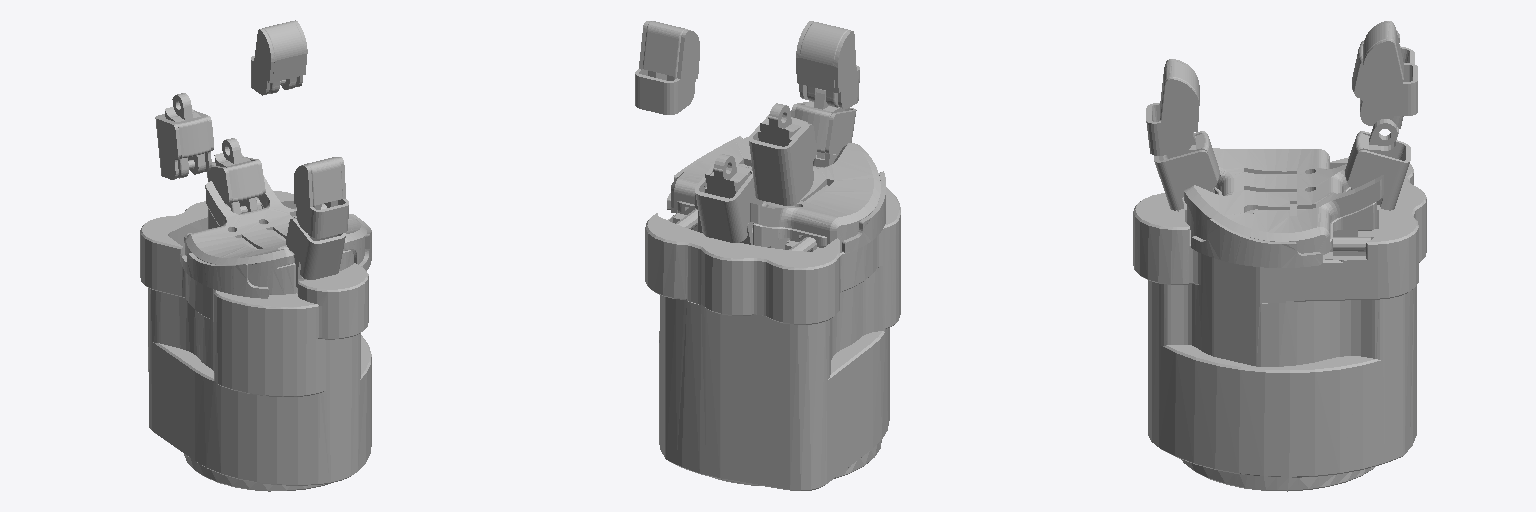
--- Render facts (derived) ---
Views: 3 orthographic renders of the robot side by side, from view 1: azimuth 30°, elevation 25°; view 2: azimuth 150°, elevation 25°; view 3: azimuth 270°, elevation 25°.
Model heri_II with 17 links and 16 joints (11 revolute, 5 fixed), rooted at world, posed every joint at zero.
Links seen in each view (by area): view 1: base_link, LFP1_2, SFP1_2, LFP3_3, LFP2_1, SFB1_1; view 2: base_link, LFP1_2, LFP3_3, SFP1_2, LFP2_1, SFB1_1; view 3: base_link, LFP3_3, SFP1_2, LFP2_1, SFB1_1, LFP1_2.
Boxes of the visible links, x1,y1,x2,y2 form: base_link: [140, 175, 371, 491]; LFP1_2: [155, 93, 213, 179]; SFP1_2: [294, 157, 348, 238]; LFP3_3: [251, 20, 307, 95]; LFP2_1: [207, 138, 265, 213]; SFB1_1: [286, 204, 345, 279]; base_link: [645, 136, 900, 490]; LFP1_2: [749, 103, 816, 205]; LFP3_3: [635, 21, 699, 114]; SFP1_2: [796, 21, 859, 108]; LFP2_1: [695, 154, 763, 242]; SFB1_1: [791, 88, 856, 158]; base_link: [1133, 148, 1426, 491]; LFP3_3: [1363, 21, 1417, 115]; SFP1_2: [1146, 59, 1199, 155]; LFP2_1: [1345, 119, 1410, 210]; SFB1_1: [1154, 131, 1219, 210]; LFP1_2: [1352, 30, 1414, 128].
Bounding box of the posed robot: 0.1112 × 0.1401 × 0.2338 m (x, y, z).
8 mesh visuals loaded from 16 distinct referenced files (8 binary STL); not drawn: 8 (reference not matched to a file when rendering).

The robot description file, URDF, robot "heri_II":
<?xml version="1.0" ?>
<!-- =================================================================================== -->
<!-- |    This document was autogenerated by xacro from heri_II.xacro                  | -->
<!-- |    EDITING THIS FILE BY HAND IS NOT RECOMMENDED                                 | -->
<!-- =================================================================================== -->
<robot name="heri_II" xmlns:xacro="http://ros.org/wiki/xacro">
  <!-- rosee plugin -->
  <gazebo>
    <plugin filename="libHeriIIPlugin.so" name="heri_controller">
      </plugin>
  </gazebo>
  <gazebo reference="">
    <self_collide>1</self_collide>
  </gazebo>
  <!-- /////////////////////////////////   Gazebo   ////////////////////////////////////// -->
  <gazebo reference="base_link">
    <fudgeFactor value="0.5"/>
    <material>Gazebo/Red</material>
  </gazebo>
  <gazebo reference="SFB1">
    <fudgeFactor value="0.5"/>
    <material>Gazebo/White</material>
  </gazebo>
  <gazebo reference="SFB1_1">
    <fudgeFactor value="0.5"/>
    <material>Gazebo/White</material>
  </gazebo>
  <gazebo reference="SFP1_2">
    <fudgeFactor value="0.5"/>
    <material>Gazebo/Blue</material>
  </gazebo>
  <gazebo reference="LFB1">
    <fudgeFactor value="0.5"/>
    <material>Gazebo/White</material>
  </gazebo>
  <gazebo reference="LFP1_1">
    <fudgeFactor value="0.5"/>
    <material>Gazebo/White</material>
  </gazebo>
  <gazebo reference="LFP1_2">
    <fudgeFactor value="0.5"/>
    <material>Gazebo/White</material>
  </gazebo>
  <gazebo reference="LFP1_3">
    <fudgeFactor value="0.5"/>
    <material>Gazebo/Blue</material>
  </gazebo>
  <gazebo reference="LFB2">
    <fudgeFactor value="0.5"/>
    <material>Gazebo/White</material>
  </gazebo>
  <gazebo reference="LFP2_1">
    <fudgeFactor value="0.5"/>
    <material>Gazebo/White</material>
  </gazebo>
  <gazebo reference="LFP2_2">
    <fudgeFactor value="0.5"/>
    <material>Gazebo/White</material>
  </gazebo>
  <gazebo reference="LFP2_3">
    <fudgeFactor value="0.5"/>
    <material>Gazebo/Blue</material>
  </gazebo>
  <material name="Black">
    <color rgba="0 0 0 1"/>
  </material>
  <material name="White">
    <color rgba="1 1 1 1"/>
  </material>
  <material name="Blue">
    <color rgba="0 0 1 1"/>
  </material>
  <material name="Red">
    <color rgba="1 0 0 1"/>
  </material>
  <!-- ///////////////////////////////////////   Short Finger   ////////////////////////////////////////// -->
  <!-- ///////////////////////////////////////   base_link   ////////////////////////////////////////// -->
  <link name="world"/>
  <joint name="world_base" type="fixed">
    <!-- z!= from 1 is necessary because otherwise the hand has tremors. I think this is because it compentetrate
     with the terrain ? -->
    <origin rpy="0 0 0" xyz="0 0 0.015"/>
    <parent link="world"/>
    <child link="base_link"/>
  </joint>
  <link name="base_link">
    <inertial>
      <origin rpy="0 0 0" xyz="0.00030739 0.003138 -0.0012876"/>
      <mass value="0.73864"/>
      <inertia ixx="0.0010292" ixy="-6.0935E-06" ixz="1.0739E-05" iyy="0.0011781" iyz="1.3882E-05" izz="0.00089393"/>
    </inertial>
    <visual>
      <origin rpy="0 0 0" xyz="0 0 0"/>
      <geometry>
        <mesh filename="package://ros_end_effector/configs/meshes/heri_II/base_heri_ii.STL"/>
      </geometry>
      <material name="">
        <color rgba="0.75294 0.75294 0.75294 1"/>
      </material>
    </visual>
    <collision>
      <origin rpy="0 0 0" xyz="0 0 0"/>
      <geometry>
        <mesh filename="package://ros_end_effector/configs/meshes/heri_II/base_heri_ii.STL"/>
      </geometry>
    </collision>
  </link>
  <!-- ///////////////////////////////////////   Base_Link of the short_finger   ////////////////////////////////////////// -->
  <link name="SFB1">
    <inertial>
      <origin rpy="0 0 0" xyz="3.9400487E-03 0 6.4488006E-03"/>
      <mass value="4.1065000E-03"/>
      <inertia ixx="4.3061452E-07" ixy="0" ixz="-1.2027573E-07" iyy="3.9605806E-07" iyz="0" izz="3.9738552E-07"/>
    </inertial>
    <visual>
      <origin rpy="0 0 0" xyz="0 0 0"/>
      <geometry>
        <mesh filename="package://ros_end_effector/configs/meshes/heri_II/SFB1.STL"/>
      </geometry>
      <material name="">
        <color rgba="0.75294 0.75294 0.75294 1"/>
      </material>
    </visual>
    <collision>
      <origin rpy="0 0 0" xyz="0 0 0"/>
      <geometry>
        <mesh filename="package://ros_end_effector/configs/meshes/heri_II/SFB1.STL"/>
      </geometry>
    </collision>
  </link>
  <!-- ///////////////////////////////////////   Joint of BASE and the base_link of the short finger   ////////////////////////////////////////// -->
  <joint name="BASE__SFB1" type="fixed">
    <origin rpy="1.5708 -1.5708 0" xyz="7.6421E-05 -0.031634 0.1213"/>
    <parent link="base_link"/>
    <child link="SFB1"/>
    <axis xyz="0 0 1"/>
    <limit effort="10" lower="-0.1" upper="0.1" velocity="1"/>
    <dynamics damping="0.03" friction="0.03"/>
  </joint>
  <!-- ///////////////////////////////////////   First phalanx of the Short_Finger   ////////////////////////////////////////// -->
  <link name="SFB1_1">
    <inertial>
      <origin rpy="0 0 0" xyz="0.013537693 -0.00011389541 0.00014514898"/>
      <mass value="0.021630428"/>
      <inertia ixx="1.7547572E-06" ixy="1.2425281E-07" ixz="-5.2776703E-08" iyy="7.3422819E-06" iyz="-1.1395559E-09" izz="7.1587820E-06"/>
    </inertial>
    <visual>
      <origin rpy="0 0 0" xyz="0 0 0"/>
      <geometry>
        <mesh filename="package://ros_end_effector/configs/meshes/heri_II/SFB1_1.STL"/>
      </geometry>
      <material name="">
        <color rgba="0.75294 0.75294 0.75294 1"/>
      </material>
    </visual>
    <collision>
      <origin rpy="0 0 0" xyz="0 0 0"/>
      <geometry>
        <mesh filename="package://ros_end_effector/configs/meshes/heri_II/SFB1_1.STL"/>
      </geometry>
    </collision>
  </link>
  <!-- ///////////////////////////////////////   Joint of base_link and the first phalanx of the short finger   ////////////////////////////////////////// -->
  <joint name="SFB1__SFP1_1" type="revolute">
    <origin rpy="1.5708 -0.29671 0" xyz="0.011 0 0.007"/>
    <parent link="SFB1"/>
    <child link="SFB1_1"/>
    <axis xyz="0 0 -1"/>
    <limit effort="10" lower="-0.1" upper="0.9" velocity="1"/>
    <dynamics damping="0.003" friction="0.003"/>
  </joint>
  <!-- ///////////////////////////////////////   Tip phalanx of the short finger   ////////////////////////////////////////// -->
  <link name="SFP1_2">
    <inertial>
      <origin rpy="0 0 0" xyz="0.012398348 -0.00034958691 0.000050212619"/>
      <mass value="0.02226615"/>
      <inertia ixx="1.7400409E-06" ixy="4.4309075E-07" ixz="-1.3771833E-08" iyy="6.8917616E-06" iyz="6.4562527E-09" izz="6.4653229E-06"/>
    </inertial>
    <visual>
      <origin rpy="0 0 0" xyz="0 0 0"/>
      <geometry>
        <mesh filename="package://ros_end_effector/configs/meshes/heri_II/SFP1_2.STL"/>
      </geometry>
      <material name="">
        <color rgba="0.75294 0.75294 0.75294 1"/>
      </material>
    </visual>
    <collision>
      <origin rpy="0 0 0" xyz="0 0 0"/>
      <geometry>
        <mesh filename="package://ros_end_effector/configs/meshes/heri_II/SFP1_2.STL"/>
      </geometry>
    </collision>
  </link>
  <!-- ///////////////////////////////////////   Joint of first and tip phalanxs of the short finger   ////////////////////////////////////////// -->
  <joint name="SFP1_1__SFP1_2" type="revolute">
    <origin rpy="0 0 0" xyz="0.035 0 0"/>
    <parent link="SFB1_1"/>
    <child link="SFP1_2"/>
    <axis xyz="0 0 -1"/>
    <limit effort="10" lower="-0.1" upper="1.2" velocity="1"/>
    <dynamics damping="0.003" friction="0.003"/>
    <mimic joint="SFB1__SFP1_1" multiplier="1.2" offset="0.2"/>
  </joint>
  <!-- ///////////////////////////////////////   Long finger 1   ////////////////////////////////////////// -->
  <!-- ///////////////////////////////////////   Base_Link of the long_finger   ////////////////////////////////////////// -->
  <link name="LFB1">
    <inertial>
      <origin rpy="0 0 0" xyz="0.000045491656 -0.0037522651 0.0064111226"/>
      <mass value="0.0039598861"/>
      <inertia ixx="4.3061452E-07" ixy="0" ixz="-1.2027573E-07" iyy="3.9605806E-07" iyz="0" izz="3.9738552E-07"/>
    </inertial>
    <visual>
      <origin rpy="0 0 0" xyz="0 0 0"/>
      <geometry>
        <mesh filename="package://ros_end_effector/configs/meshes/heri_II/LFB1.STL"/>
      </geometry>
      <material name="">
        <color rgba="0.75294 0.75294 0.75294 1"/>
      </material>
    </visual>
    <collision>
      <origin rpy="0 0 0" xyz="0 0 0"/>
      <geometry>
        <mesh filename="package://ros_end_effector/configs/meshes/heri_II/LFB1.STL"/>
      </geometry>
    </collision>
  </link>
  <!-- ///////////////////////////////////////   Joint of BASE and the base_link of the short finger   ////////////////////////////////////////// -->
  <joint name="BASE__LFB1" type="fixed">
    <origin rpy="1.5708 -1.5708 3.1415927" xyz="-0.031002 0.025903 0.1213"/>
    <parent link="base_link"/>
    <child link="LFB1"/>
    <axis xyz="0 0 1"/>
    <limit effort="10" lower="-0.1" upper="0.1" velocity="1"/>
    <dynamics damping="0.08" friction="0.08"/>     <!-- <dynamics damping="0.03" friction="0.03"/> -->
  </joint>
  <!-- ///////////////////////////////////////   First phalanx of the Long_Finger   ////////////////////////////////////////// -->
  <link name="LFP1_1">
    <inertial>
      <origin rpy="0 0 0" xyz="0.013537693 -0.00011389541 0.00014514898"/>
      <mass value="0.021630428"/>
      <inertia ixx="1.7547572E-06" ixy="1.2425281E-07" ixz="-5.2776703E-08" iyy="7.3422819E-06" iyz="-1.1395559E-09" izz="7.1587820E-06"/>
    </inertial>
    <visual>
      <origin rpy="0 0 0" xyz="0 0 0"/>
      <geometry>
        <mesh filename="package://ros_end_effector/configs/meshes/heri_II/LFP1_1.STL"/>
      </geometry>
      <material name="">
        <color rgba="0.75294 0.75294 0.75294 1"/>
      </material>
    </visual>
    <collision>
      <origin rpy="0 0 0" xyz="0 0 0"/>
      <geometry>
        <mesh filename="package://ros_end_effector/configs/meshes/heri_II/LFP1_1.STL"/>
      </geometry>
    </collision>
  </link>
  <!-- ///////////////////////////////////////   Joint of base_link and the first phalanx of the short finger   ////////////////////////////////////////// -->
  <joint name="LFB1__LFP1_1" type="revolute">
    <origin rpy="1.5708 -0.29671 0" xyz="0.011 0 0.007"/>
    <parent link="LFB1"/>
    <child link="LFP1_1"/>
    <axis xyz="0 0 -1"/>
    <limit effort="10" lower="-0.1" upper="0.9" velocity="1"/>
    <dynamics damping="0.3" friction="0.3"/>
  </joint>
  <!-- ///////////////////////////////////////   Second phalanx of the Long_Finger   ////////////////////////////////////////// -->
  <link name="LFP1_2">
    <inertial>
      <origin rpy="0 0 0" xyz="0.012816858 0.00029615072 0.00012767631"/>
      <mass value="0.022869549"/>
      <inertia ixx="1.9943688E-06" ixy="1.3380251E-07" ixz="-5.3468405E-08" iyy="7.4922799E-06" iyz="-9.2812315E-10" izz="7.3102836E-06"/>
    </inertial>
    <visual>
      <origin rpy="0 0 0" xyz="0 0 0"/>
      <geometry>
        <mesh filename="package://ros_end_effector/configs/meshes/heri_II/LFP1_2.STL"/>
      </geometry>
      <material name="">
        <color rgba="0.75294 0.75294 0.75294 1"/>
      </material>
    </visual>
    <collision>
      <origin rpy="0 0 0" xyz="0 0 0"/>
      <geometry>
        <mesh filename="package://ros_end_effector/configs/meshes/heri_II/LFP1_2.STL"/>
      </geometry>
    </collision>
  </link>
  <!-- ///////////////////////////////////////   Joint of base_link and the first phalanx of the long finger   ////////////////////////////////////////// -->
  <joint name="LFP1_1__LFP1_2" type="revolute">
    <origin rpy="0 0 0" xyz="0.035 0 0"/>
    <parent link="LFP1_1"/>
    <child link="LFP1_2"/>
    <axis xyz="0 0 -1"/>
    <limit effort="10" lower="-0.1" upper="1.1" velocity="1"/> <!-- upper was 0.5-->
    <dynamics damping="0.3" friction="0.3"/>
    <mimic joint="LFB1__LFP1_1" multiplier="1" offset="0.1"/>
  </joint>
  <!-- ///////////////////////////////////////   Tip phalanx of the long finger   ////////////////////////////////////////// -->
  <link name="LFP1_3">
    <inertial>
      <origin rpy="0 0 0" xyz="0.012398348 -0.00034958691 0.000050212619"/>
      <mass value="0.02226615"/>
      <inertia ixx="1.7400409E-06" ixy="4.4309075E-07" ixz="-1.3771833E-08" iyy="6.8917616E-06" iyz="6.4562527E-09" izz="6.4653229E-06"/>
    </inertial>
    <visual>
      <origin rpy="0 0 0" xyz="0 0 0"/>
      <geometry>
        <mesh filename="package://ros_end_effector/configs/meshes/heri_II/LFP1_3.STL"/>
      </geometry>
      <material name="">
        <color rgba="0.75294 0.75294 0.75294 1"/>
      </material>
    </visual>
    <collision>
      <origin rpy="0 0 0" xyz="0 0 0"/>
      <geometry>
        <mesh filename="package://ros_end_effector/configs/meshes/heri_II/LFP1_3.STL"/>
      </geometry>
    </collision>
  </link>
  <!-- ///////////////////////////////////////   Joint of second and tip phalanxs of the long finger   ////////////////////////////////////////// -->
  <joint name="LFP1_2__LFP1_3" type="revolute">
    <origin rpy="0 0 0" xyz="0.035 0 0"/>
    <parent link="LFP1_2"/>
    <child link="LFP1_3"/>
    <axis xyz="0 0 -1"/>
    <limit effort="10" lower="-0.1" upper="1.1" velocity="1"/> <!-- upper was 0.5-->
    <dynamics damping="0.3" friction="0.3"/>
    <mimic joint="LFB1__LFP1_1" multiplier="0.5" offset="0.2"/>
  </joint>

  <!-- ///////////////////////////////////////   Long finger 2   ////////////////////////////////////////// -->
  <!-- ///////////////////////////////////////   Base_Link of the long_finger   ////////////////////////////////////////// -->
  <link name="LFB2">
    <inertial>
      <origin rpy="0 0 0" xyz="0.000045491656 -0.0037522651 0.0064111226"/>
      <mass value="0.0039598861"/>
      <inertia ixx="4.3061452E-07" ixy="0" ixz="-1.2027573E-07" iyy="3.9605806E-07" iyz="0" izz="3.9738552E-07"/>
    </inertial>
    <visual>
      <origin rpy="0 0 0" xyz="0 0 0"/>
      <geometry>
        <mesh filename="package://ros_end_effector/configs/meshes/heri_II/LFB2.STL"/>
      </geometry>
      <material name="">
        <color rgba="0.75294 0.75294 0.75294 1"/>
      </material>
    </visual>
    <collision>
      <origin rpy="0 0 0" xyz="0 0 0"/>
      <geometry>
        <mesh filename="package://ros_end_effector/configs/meshes/heri_II/LFB2.STL"/>
      </geometry>
    </collision>
  </link>
  <!-- ///////////////////////////////////////   Joint of BASE and the base_link of the short finger   ////////////////////////////////////////// -->
  <joint name="BASE__LFB2" type="fixed">
    <origin rpy="1.5708 -1.5708 3.1415927" xyz="0 0.031903 0.1213"/>
    <parent link="base_link"/>
    <child link="LFB2"/>
    <axis xyz="0 0 1"/>
    <limit effort="10" lower="-0.1" upper="0.1" velocity="1"/>
    <dynamics damping="0.03" friction="0.03"/>
  </joint>
  <!-- ///////////////////////////////////////   First phalanx of the Long_Finger   ////////////////////////////////////////// -->
  <link name="LFP2_1">
    <inertial>
      <origin rpy="0 0 0" xyz="0.013537693 -0.00011389541 0.00014514898"/>
      <mass value="0.021630428"/>
      <inertia ixx="1.7547572E-06" ixy="1.2425281E-07" ixz="-5.2776703E-08" iyy="7.3422819E-06" iyz="-1.1395559E-09" izz="7.1587820E-06"/>
    </inertial>
    <visual>
      <origin rpy="0 0 0" xyz="0 0 0"/>
      <geometry>
        <mesh filename="package://ros_end_effector/configs/meshes/heri_II/LFP2_1.STL"/>
      </geometry>
      <material name="">
        <color rgba="0.75294 0.75294 0.75294 1"/>
      </material>
    </visual>
    <collision>
      <origin rpy="0 0 0" xyz="0 0 0"/>
      <geometry>
        <mesh filename="package://ros_end_effector/configs/meshes/heri_II/LFP2_1.STL"/>
      </geometry>
    </collision>
  </link>
  <!-- ///////////////////////////////////////   Joint of base_link and the first phalanx of the short finger   ////////////////////////////////////////// -->
  <joint name="LFB2__LFP2_1" type="revolute">
    <origin rpy="1.5708 -0.29671 0" xyz="0.011 0 0.007"/>
    <parent link="LFB2"/>
    <child link="LFP2_1"/>
    <axis xyz="0 0 -1"/>
    <limit effort="10" lower="-0.1" upper="0.73" velocity="1"/>
    <dynamics damping="0.003" friction="0.003"/>
  </joint>
  <!-- ///////////////////////////////////////   Second phalanx of the Long_Finger   ////////////////////////////////////////// -->
  <link name="LFP2_2">
    <inertial>
      <origin rpy="0 0 0" xyz="0.012816858 0.00029615072 0.00012767631"/>
      <mass value="0.022869549"/>
      <inertia ixx="1.9943688E-06" ixy="1.3380251E-07" ixz="-5.3468405E-08" iyy="7.4922799E-06" iyz="-9.2812315E-10" izz="7.3102836E-06"/>
    </inertial>
    <visual>
      <origin rpy="0 0 0" xyz="0 0 0"/>
      <geometry>
        <mesh filename="package://ros_end_effector/configs/meshes/heri_II/LFP2_2.STL"/>
      </geometry>
      <material name="">
        <color rgba="0.75294 0.75294 0.75294 1"/>
      </material>
    </visual>
    <collision>
      <origin rpy="0 0 0" xyz="0 0 0"/>
      <geometry>
        <mesh filename="package://ros_end_effector/configs/meshes/heri_II/LFP2_2.STL"/>
      </geometry>
    </collision>
  </link>
  <!-- ///////////////////////////////////////   Joint of base_link and the first phalanx of the short finger   ////////////////////////////////////////// -->
  <joint name="LFP2_1__LFP2_2" type="revolute">
    <origin rpy="0 0 0" xyz="0.035 0 0"/>
    <parent link="LFP2_1"/>
    <child link="LFP2_2"/>
    <axis xyz="0 0 -1"/>
    <limit effort="10" lower="-0.1" upper="0.5" velocity="1"/>
    <dynamics damping="0.003" friction="0.003"/>
    <mimic joint="LFB2__LFP2_1" multiplier="1" offset="0.1"/>
  </joint>

  <!-- ///////////////////////////////////////   Tip phalanx of the long finger   ////////////////////////////////////////// -->
  <link name="LFP2_3">
    <inertial>
      <origin rpy="0 0 0" xyz="0.012398348 -0.00034958691 0.000050212619"/>
      <mass value="0.02226615"/>
      <inertia ixx="1.7400409E-06" ixy="4.4309075E-07" ixz="-1.3771833E-08" iyy="6.8917616E-06" iyz="6.4562527E-09" izz="6.4653229E-06"/>
    </inertial>
    <visual>
      <origin rpy="0 0 0" xyz="0 0 0"/>
      <geometry>
        <mesh filename="package://ros_end_effector/configs/meshes/heri_II/LFP2_3.STL"/>
      </geometry>
      <material name="">
        <color rgba="0.75294 0.75294 0.75294 1"/>
      </material>
    </visual>
    <collision>
      <origin rpy="0 0 0" xyz="0 0 0"/>
      <geometry>
        <mesh filename="package://ros_end_effector/configs/meshes/heri_II/LFP2_3.STL"/>
      </geometry>
    </collision>
  </link>
  <!-- ///////////////////////////////////////   Joint of second and tip phalanxs of the long finger   ////////////////////////////////////////// -->
  <joint name="LFP2_2__LFP2_3" type="revolute">
    <origin rpy="0 0 0" xyz="0.035 0 0"/>
    <parent link="LFP2_2"/>
    <child link="LFP2_3"/>
    <axis xyz="0 0 -1"/>
    <limit effort="10" lower="-0.1" upper="0.5" velocity="1"/>
    <dynamics damping="0.06" friction="0.05"/>
    <mimic joint="LFB2__LFP2_1" multiplier="0.5" offset="0.2"/>
  </joint>

  <!-- ///////////////////////////////////////   Long finger 3   ////////////////////////////////////////// -->
  <!-- ///////////////////////////////////////   Base_Link of the long_finger   ////////////////////////////////////////// -->
  <link name="LFB3">
    <inertial>
      <origin rpy="0 0 0" xyz="0.000045491656 -0.0037522651 0.0064111226"/>
      <mass value="0.0039598861"/>
      <inertia ixx="4.3061452E-07" ixy="0" ixz="-1.2027573E-07" iyy="3.9605806E-07" iyz="0" izz="3.9738552E-07"/>
    </inertial>
    <visual>
      <origin rpy="0 0 0" xyz="0 0 0"/>
      <geometry>
        <mesh filename="package://ros_end_effector/configs/meshes/heri_II/LFB3.STL"/>
      </geometry>
      <material name="">
        <color rgba="0.75294 0.75294 0.75294 1"/>
      </material>
    </visual>
    <collision>
      <origin rpy="0 0 0" xyz="0 0 0"/>
      <geometry>
        <mesh filename="package://ros_end_effector/configs/meshes/heri_II/LFB3.STL"/>
      </geometry>
    </collision>
  </link>
  <!-- ///////////////////////////////////////   Joint of BASE and the base_link of the short finger   ////////////////////////////////////////// -->
  <joint name="BASE__LFB3" type="fixed">
    <origin rpy="1.5708 -1.5708 3.1415927" xyz="0.030998 0.025903 0.1213"/>
    <parent link="base_link"/>
    <child link="LFB3"/>
    <axis xyz="0 0 1"/>
    <limit effort="10" lower="-0.1" upper="0.1" velocity="1"/>
    <dynamics damping="0.03" friction="0.03"/>
  </joint>
  <!-- ///////////////////////////////////////   First phalanx of the Long_Finger   ////////////////////////////////////////// -->
  <link name="LFP3_1">
    <inertial>
      <origin rpy="0 0 0" xyz="0.013537693 -0.00011389541 0.00014514898"/>
      <mass value="0.021630428"/>
      <inertia ixx="1.7547572E-06" ixy="1.2425281E-07" ixz="-5.2776703E-08" iyy="7.3422819E-06" iyz="-1.1395559E-09" izz="7.1587820E-06"/>
    </inertial>
    <visual>
      <origin rpy="0 0 0" xyz="0 0 0"/>
      <geometry>
        <mesh filename="package://ros_end_effector/configs/meshes/heri_II/LFP3_1.STL"/>
      </geometry>
      <material name="">
        <color rgba="0.75294 0.75294 0.75294 1"/>
      </material>
    </visual>
    <collision>
      <origin rpy="0 0 0" xyz="0 0 0"/>
      <geometry>
        <mesh filename="package://ros_end_effector/configs/meshes/heri_II/LFP3_1.STL"/>
      </geometry>
    </collision>
  </link>
  <!-- ///////////////////////////////////////   Joint of base_link and the first phalanx of the short finger   ////////////////////////////////////////// -->
  <joint name="LFB3__LFP3_1" type="revolute">
    <origin rpy="1.5708 -0.29671 0" xyz="0.011 0 0.007"/>
    <parent link="LFB3"/>
    <child link="LFP3_1"/>
    <axis xyz="0 0 -1"/>
    <limit effort="10" lower="-0.1" upper="0.9" velocity="1"/>
    <dynamics damping="0.003" friction="0.003"/>
  </joint>
  <!-- ///////////////////////////////////////   Second phalanx of the Long_Finger   ////////////////////////////////////////// -->
  <link name="LFP3_2">
    <inertial>
      <origin rpy="0 0 0" xyz="0.012816858 0.00029615072 0.00012767631"/>
      <mass value="0.022869549"/>
      <inertia ixx="1.9943688E-06" ixy="1.3380251E-07" ixz="-5.3468405E-08" iyy="7.4922799E-06" iyz="-9.2812315E-10" izz="7.3102836E-06"/>
    </inertial>
    <visual>
      <origin rpy="0 0 0" xyz="0 0 0"/>
      <geometry>
        <mesh filename="package://ros_end_effector/configs/meshes/heri_II/LFP3_2.STL"/>
      </geometry>
      <material name="">
        <color rgba="0.75294 0.75294 0.75294 1"/>
      </material>
    </visual>
    <collision>
      <origin rpy="0 0 0" xyz="0 0 0"/>
      <geometry>
        <mesh filename="package://ros_end_effector/configs/meshes/heri_II/LFP3_2.STL"/>
      </geometry>
    </collision>
  </link>
  <!-- ///////////////////////////////////////   Joint of base_link and the first phalanx of the short finger   ////////////////////////////////////////// -->
  <joint name="LFP3_1__LFP3_2" type="revolute">
    <origin rpy="0 0 0" xyz="0.035 0 0"/>
    <parent link="LFP3_1"/>
    <child link="LFP3_2"/>
    <axis xyz="0 0 -1"/>
    <limit effort="10" lower="-0.1" upper="0.5" velocity="1"/>
    <dynamics damping="0.003" friction="0.003"/>
    <mimic joint="LFB3__LFP3_1" multiplier="1" offset="0.1"/>
  </joint>

  <!-- ///////////////////////////////////////   Tip phalanx of the long finger   ////////////////////////////////////////// -->
  <link name="LFP3_3">
    <inertial>
      <origin rpy="0 0 0" xyz="0.012398348 -0.00034958691 0.000050212619"/>
      <mass value="0.02226615"/>
      <inertia ixx="1.7400409E-06" ixy="4.4309075E-07" ixz="-1.3771833E-08" iyy="6.8917616E-06" iyz="6.4562527E-09" izz="6.4653229E-06"/>
    </inertial>
    <visual>
      <origin rpy="0 0 0" xyz="0 0 0"/>
      <geometry>
        <mesh filename="package://ros_end_effector/configs/meshes/heri_II/LFP3_3.STL"/>
      </geometry>
      <material name="">
        <color rgba="0.75294 0.75294 0.75294 1"/>
      </material>
    </visual>
    <collision>
      <origin rpy="0 0 0" xyz="0 0 0"/>
      <geometry>
        <mesh filename="package://ros_end_effector/configs/meshes/heri_II/LFP3_3.STL"/>
      </geometry>
    </collision>
  </link>
  <!-- ///////////////////////////////////////   Joint of second and tip phalanxs of the long finger   ////////////////////////////////////////// -->
  <joint name="LFP3_2__LFP3_3" type="revolute">
    <origin rpy="0 0 0" xyz="0.035 0 0"/>
    <parent link="LFP3_2"/>
    <child link="LFP3_3"/>
    <axis xyz="0 0 -1"/>
    <limit effort="10" lower="-0.1" upper="0.5" velocity="1"/>
    <dynamics damping="0.003" friction="0.003"/>
    <mimic joint="LFB3__LFP3_1" multiplier="0.5" offset="0.2"/>
  </joint>

</robot>
